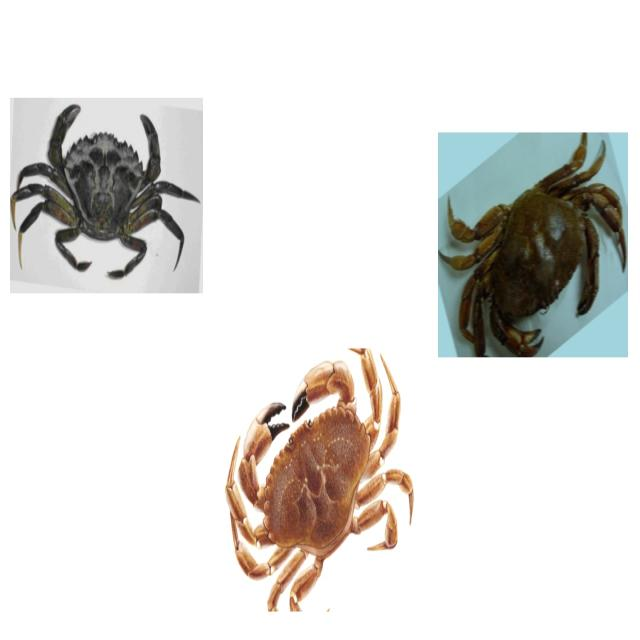egc: (9, 100, 203, 296)
jonah_crab: (227, 343, 416, 607)
rock_crab: (441, 134, 623, 351)
